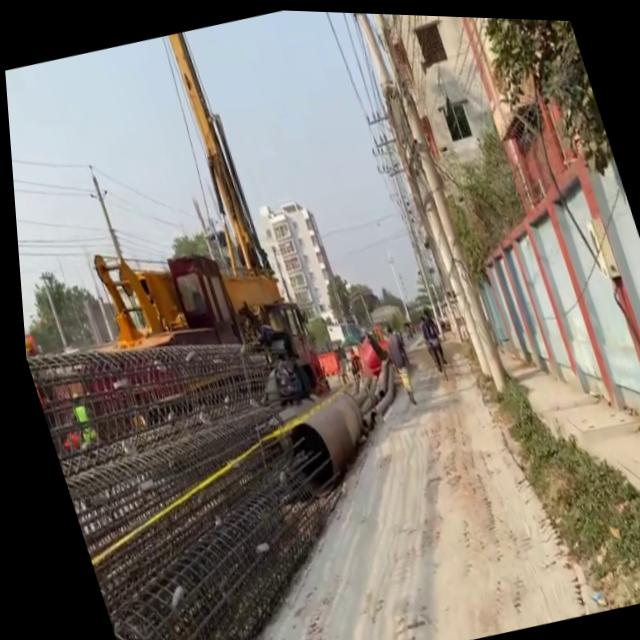Car: (16, 267, 471, 640)
Construction-barrier: (449, 320, 589, 620)
Fallen-tree: (388, 359, 414, 402)
Light-pole: (343, 10, 518, 384)
Pothole: (484, 299, 640, 614)
Traffic-cone: (0, 8, 342, 379)
